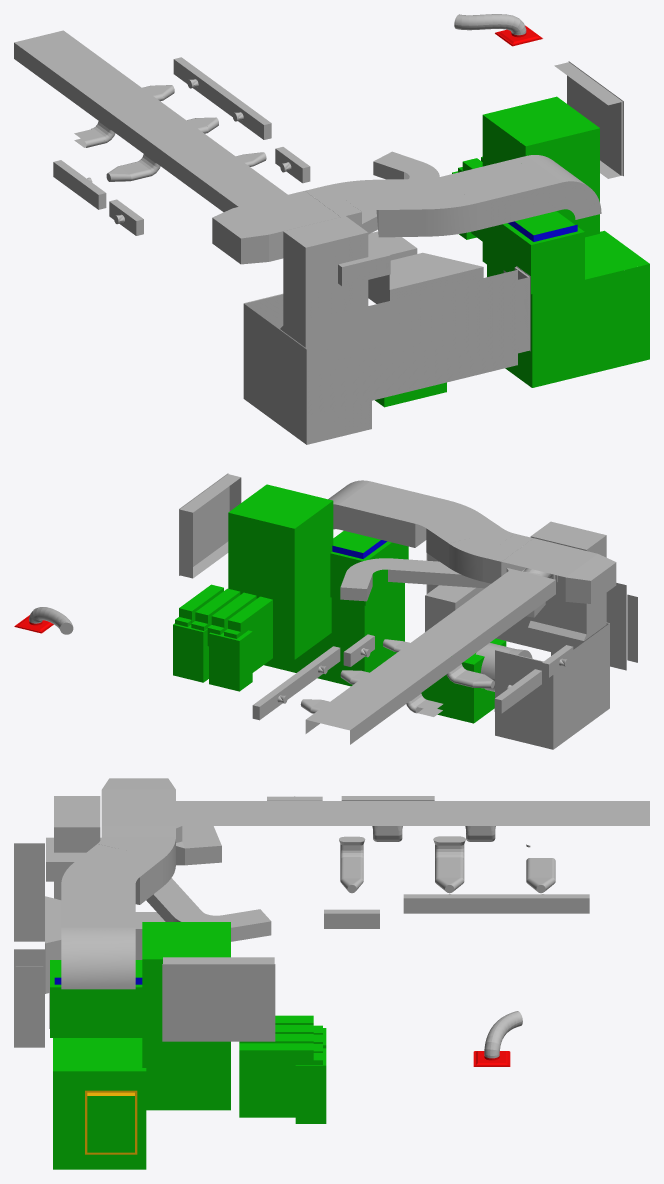
The model's file is duct.glb.
3 views of the same model, one above another, from view 1: azimuth 30°, elevation 25°; view 2: azimuth 150°, elevation 25°; view 3: azimuth 270°, elevation 25° (orthographic). The views are drawn at different scales.
Parts seen in each view (by area): view 1: layer:duct; view 2: layer:duct; view 3: layer:duct.
Part boxes in pixels (x1,y1,x2,y2): layer:duct: (14,14,649,444); layer:duct: (14,473,637,749); layer:duct: (14,778,649,1169).
Bounding box in the file's own units: 10.02 × 3.96 × 10.43.
